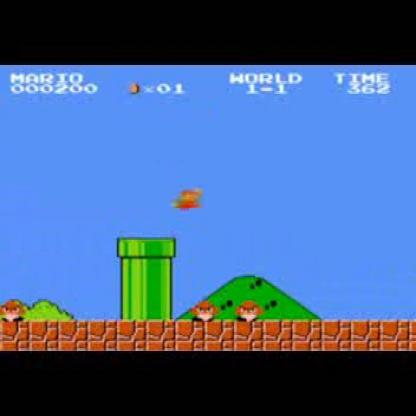Goomba: (233, 294, 266, 320), (0, 296, 27, 324), (188, 298, 218, 322)
